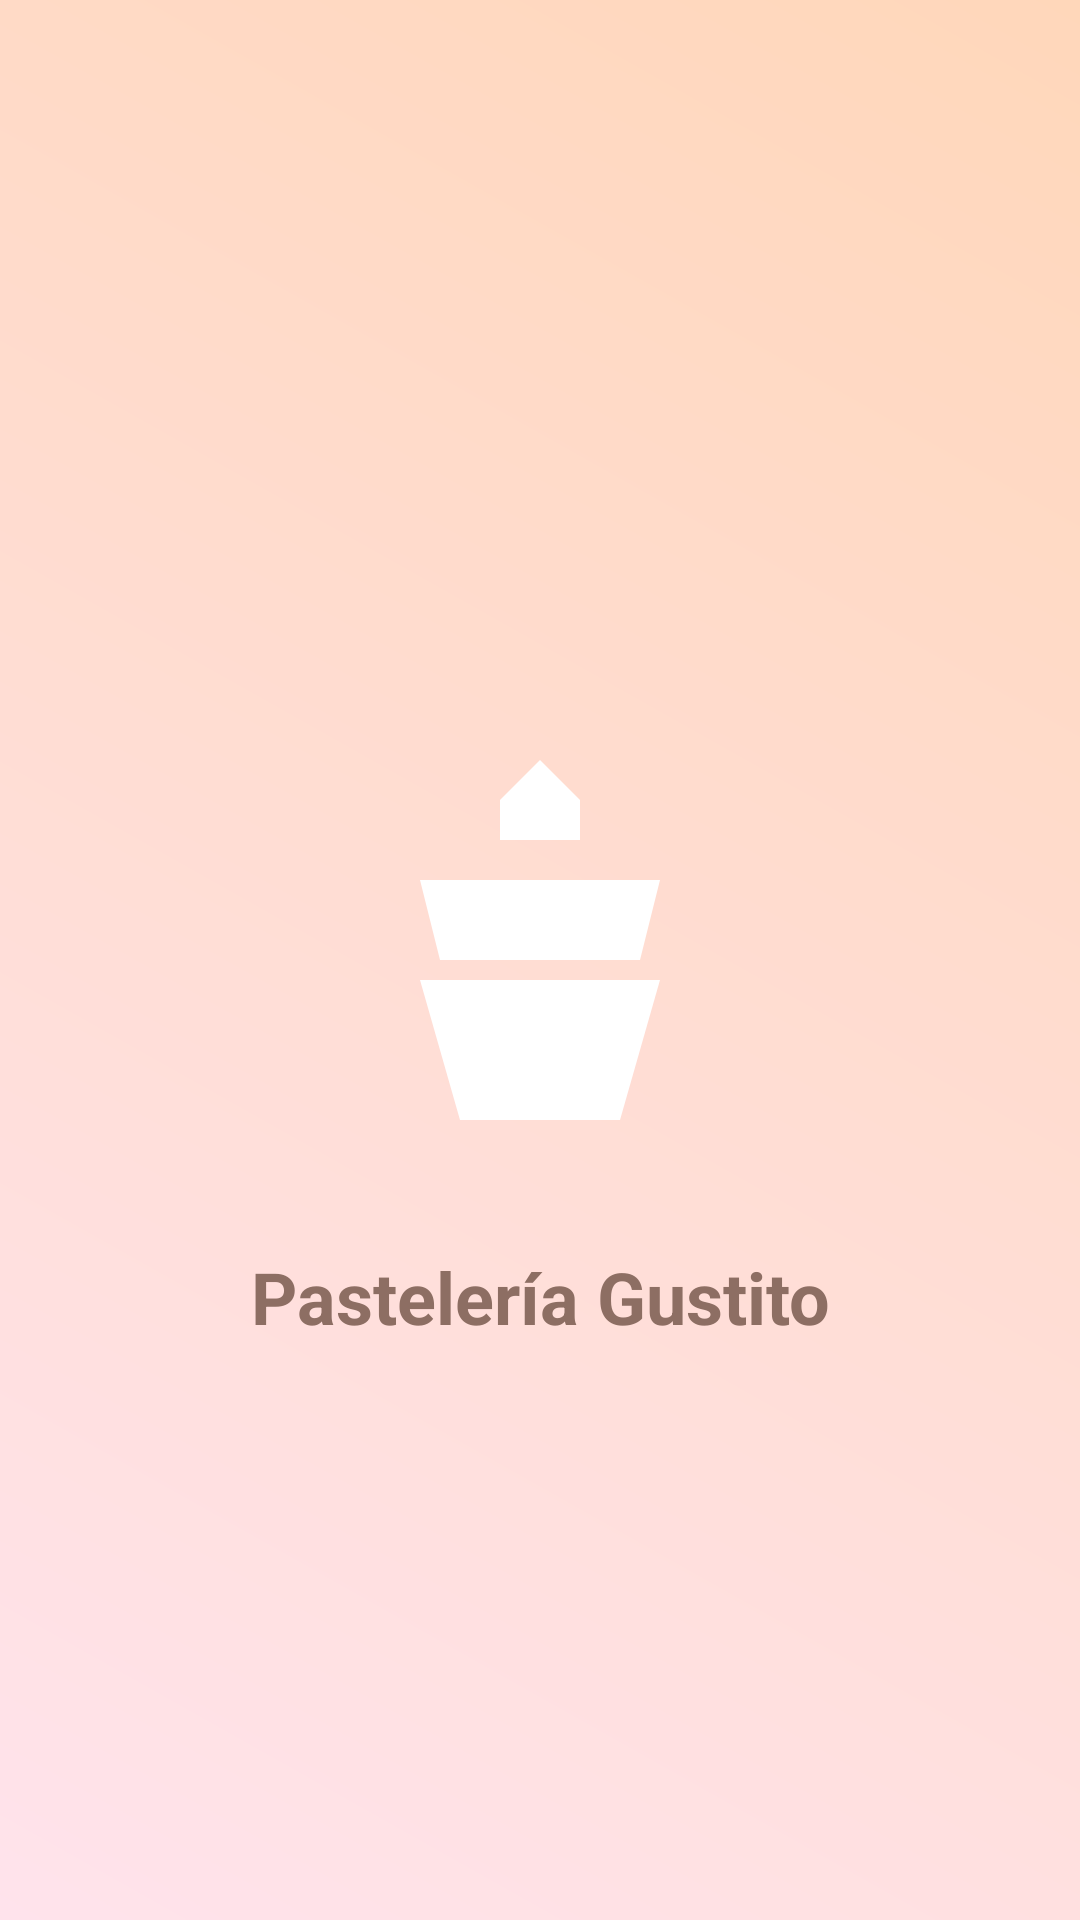

Where to tap for icons on this 1080 × 1920 app screen, as (x=x, y=y):
cake: (x=540, y=940)
